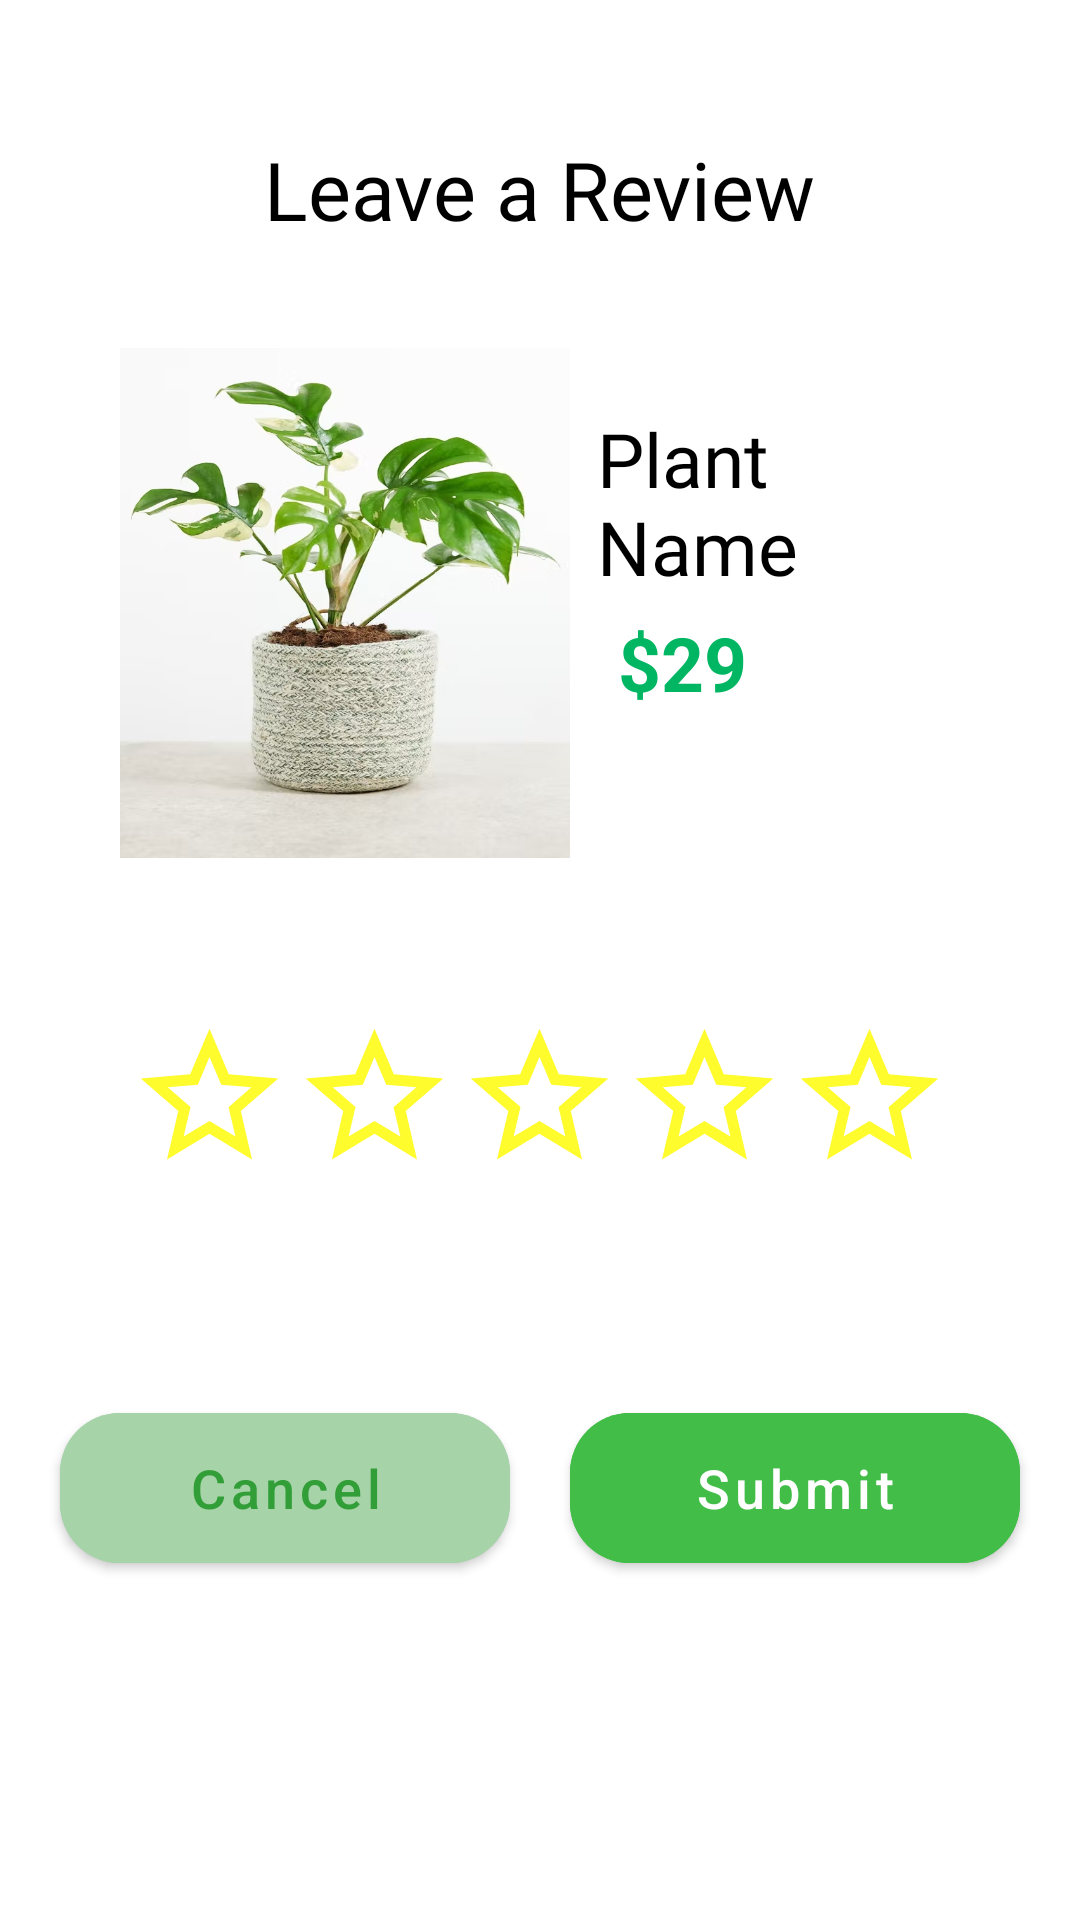

Screen size 1080w x 1920h. Icon name, then its box in pixels as (x1, y1, x2, y2):
star: (141, 1029, 278, 1160), (306, 1029, 443, 1160), (471, 1029, 608, 1160), (636, 1029, 773, 1160), (801, 1029, 938, 1160)
